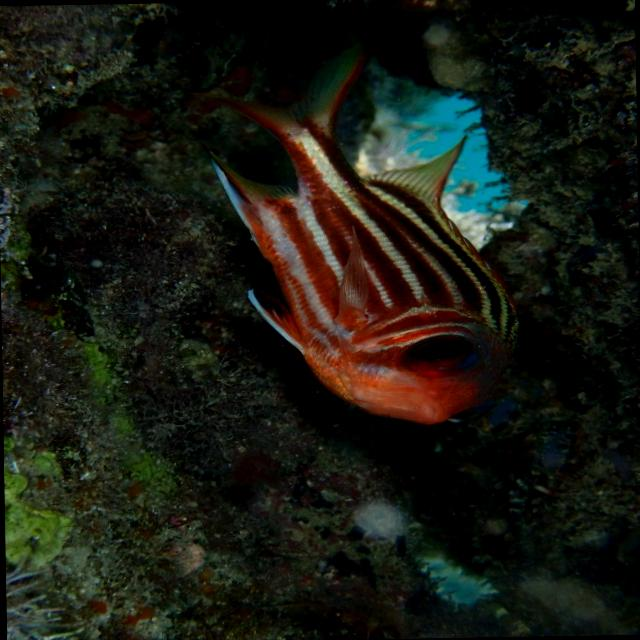Asker Baligi: (173, 20, 538, 448)
